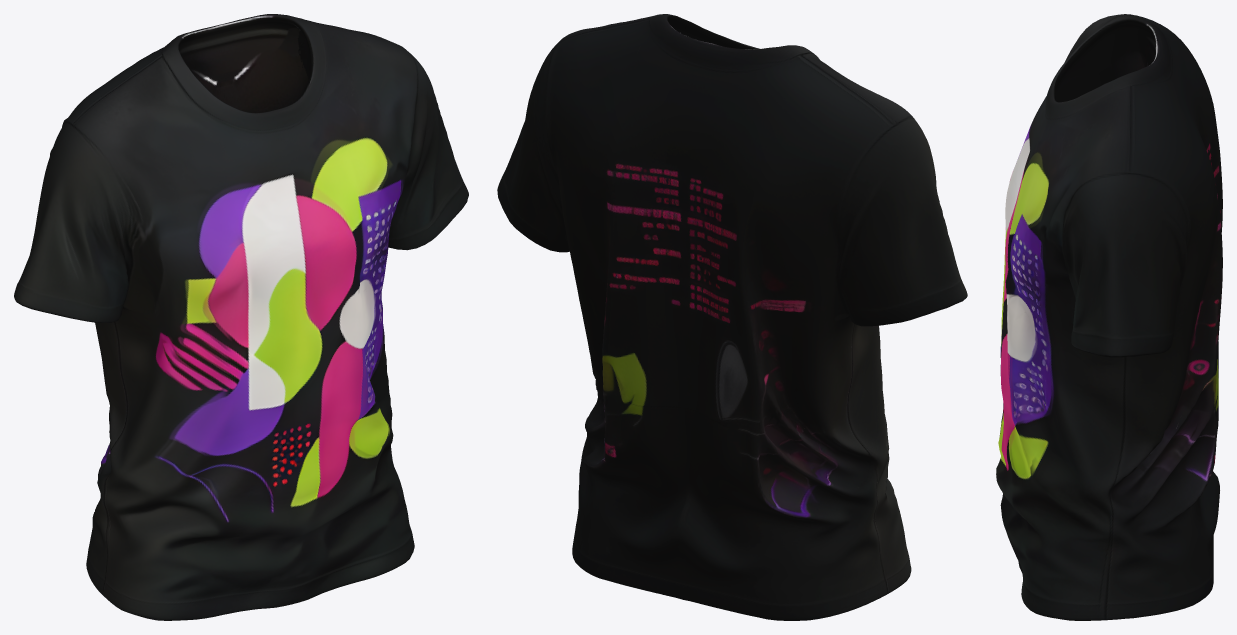
The model's file is base_basic_shaded.glb.
3 renders of one model, left to right at view 1: azimuth 30°, elevation 25°; view 2: azimuth 150°, elevation 25°; view 3: azimuth 270°, elevation 25°, orthographic. The views are drawn at different scales.
Parts seen in each view (by area): view 1: model; view 2: model; view 3: model.
Boxes of the visible parts, x1,y1,x2,y2 form: model: [14, 14, 468, 620]; model: [497, 14, 967, 620]; model: [996, 14, 1222, 620].
Size of the model in its own units: 1.69 by 1.91 by 0.7557.
1 material, 1 textured.
